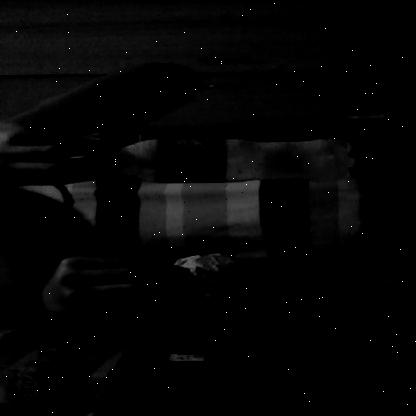Plastic Bottle: (64, 134, 368, 187)
